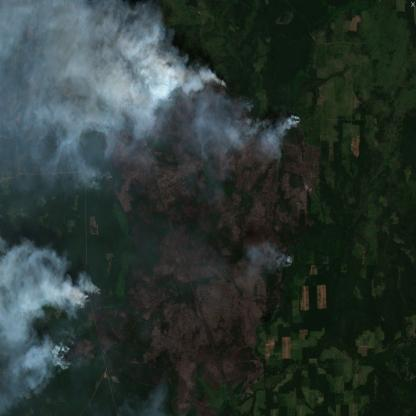fire: (121, 59, 304, 146), (54, 283, 106, 372), (279, 248, 296, 272)
